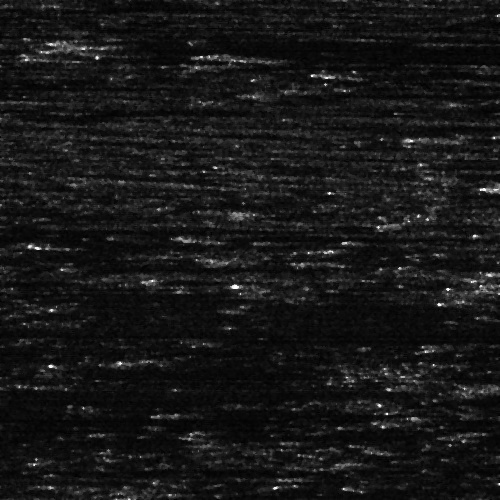object: (182, 47, 287, 60), (286, 68, 401, 77), (220, 87, 325, 96), (410, 132, 493, 143), (286, 245, 379, 252), (426, 431, 489, 440), (155, 232, 228, 239), (84, 40, 147, 47), (481, 3, 500, 16), (170, 410, 181, 415)
shadow: (235, 47, 500, 60), (115, 40, 500, 47), (273, 87, 500, 96), (344, 68, 500, 77), (333, 245, 411, 252), (451, 132, 500, 143), (192, 232, 266, 239), (0, 85, 156, 88), (176, 410, 269, 415), (457, 431, 500, 440)
